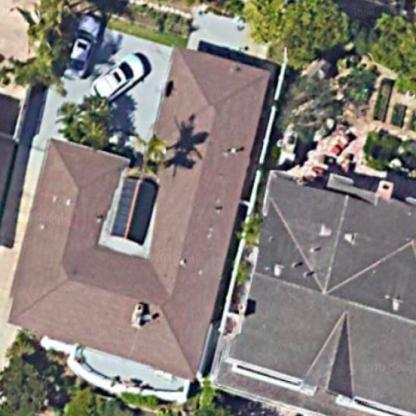car: (89, 52, 153, 107), (64, 8, 102, 85)
